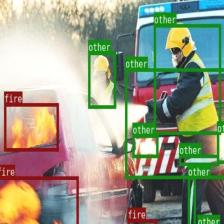fire: (0, 176, 78, 224), (4, 103, 58, 150), (127, 219, 156, 224)
